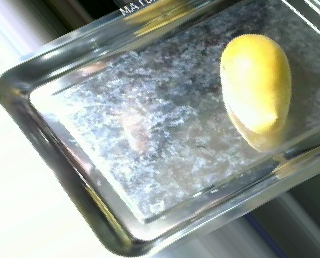Mango: (212, 25, 300, 137)
